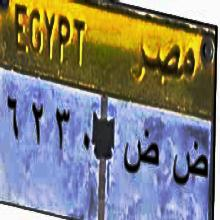0: (78, 124, 94, 160)
2: (29, 97, 47, 146)
3: (52, 103, 72, 159)
6: (6, 91, 22, 145)
daad: (122, 115, 162, 182), (171, 136, 209, 198)
